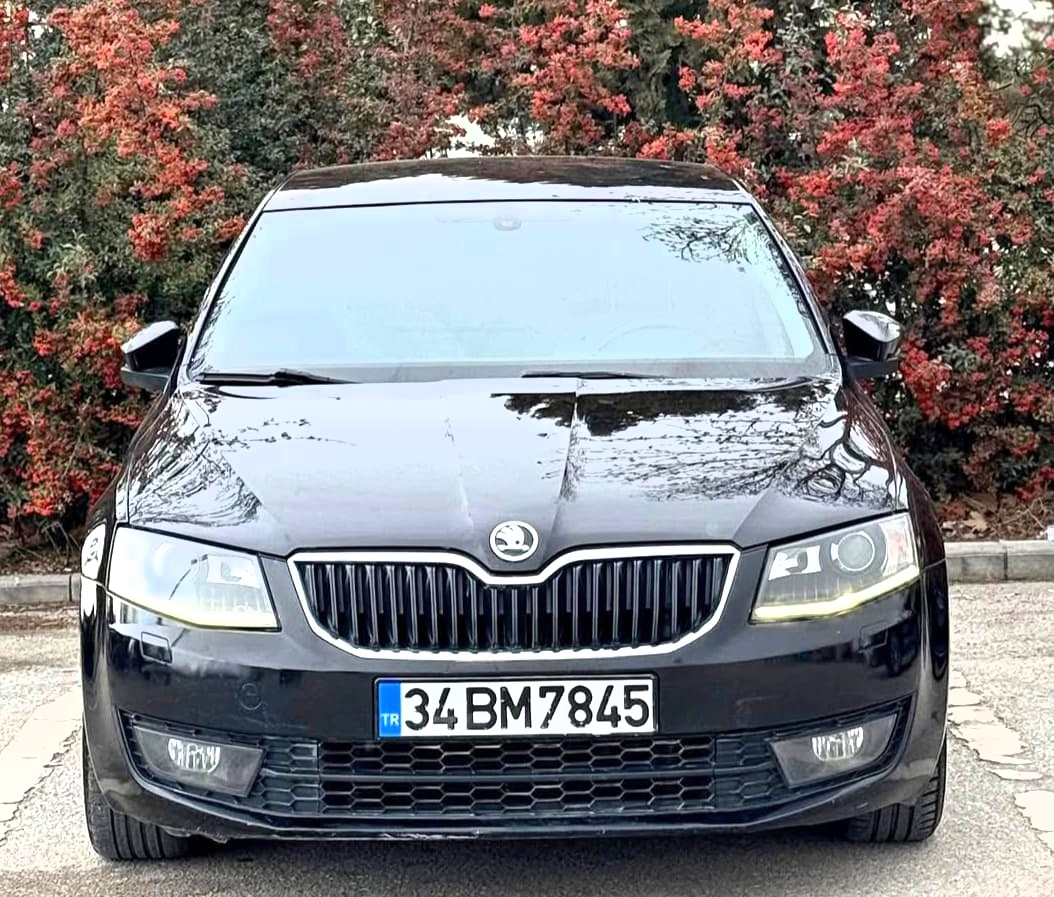plaka: (390, 658, 649, 740)
